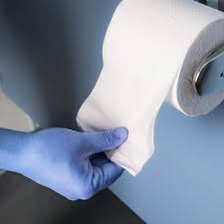tissue: (65, 0, 224, 180)
